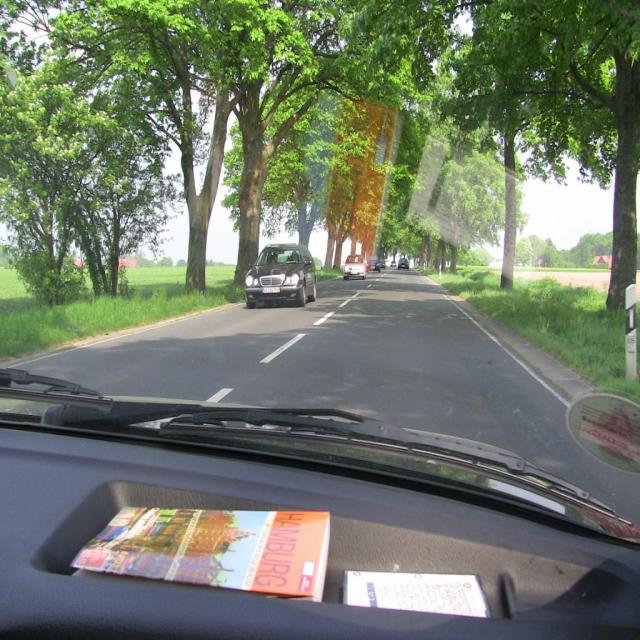car: (241, 241, 315, 301), (342, 252, 367, 280), (396, 253, 409, 269)
